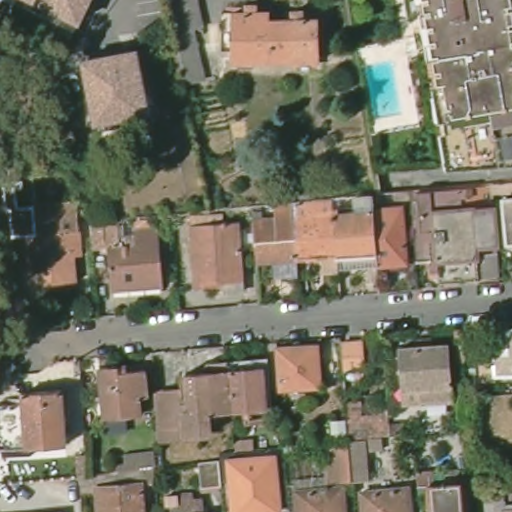pool: (356, 55, 405, 122)
